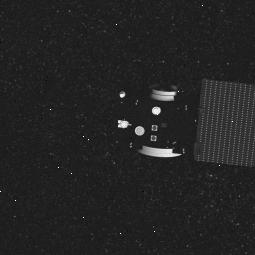proba_3_csc: (105, 67, 255, 181)
